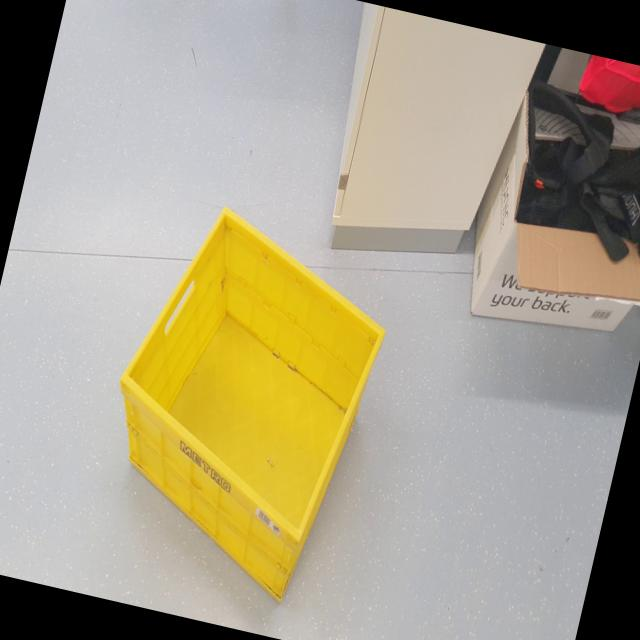box: (60, 163, 415, 628)
